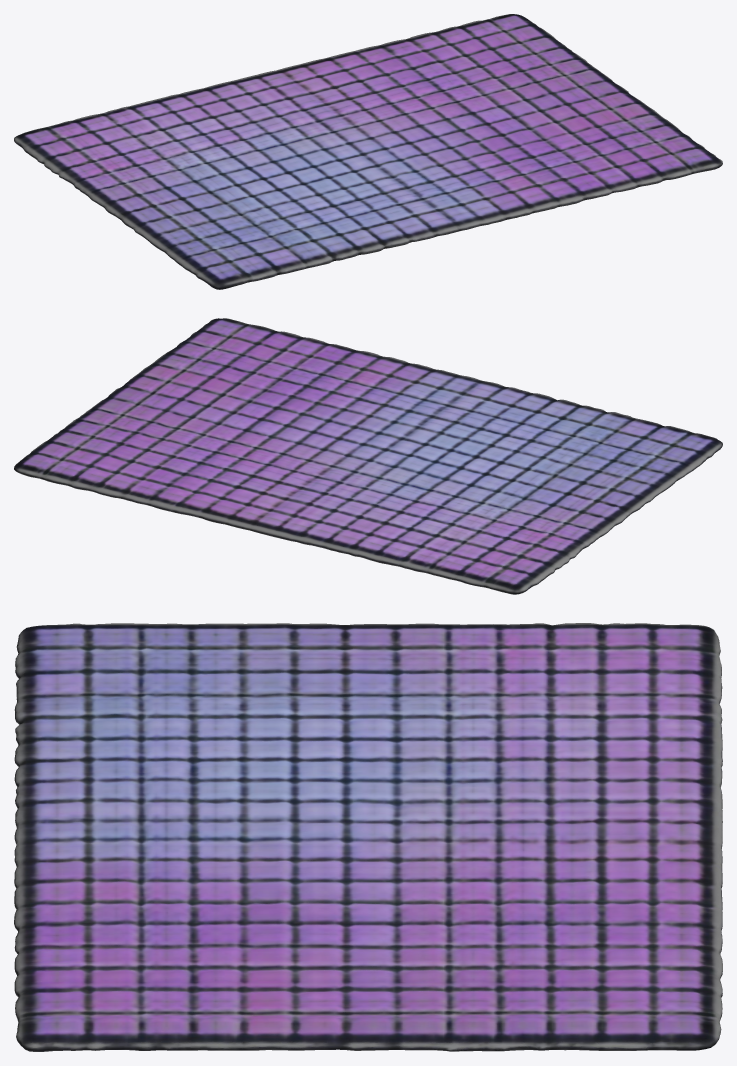
File: 6ee1706ad06f_a_rectangle_disco_floor__3d__0_glb.glb
3 views of the same model, one above another, from view 1: azimuth 30°, elevation 25°; view 2: azimuth 150°, elevation 25°; view 3: azimuth 270°, elevation 25° (orthographic). The views are drawn at different scales.
Visible parts, largest first — view 1: world_0; view 2: world_0; view 3: world_0.
Boxes of the visible parts, bbox=[...] form: world_0: bbox=[14, 14, 722, 289]; world_0: bbox=[14, 318, 722, 594]; world_0: bbox=[14, 623, 722, 1051].
Bounding box in the file's own units: 0.5065 × 0.0113 × 0.3579.
1 material, 1 textured.
